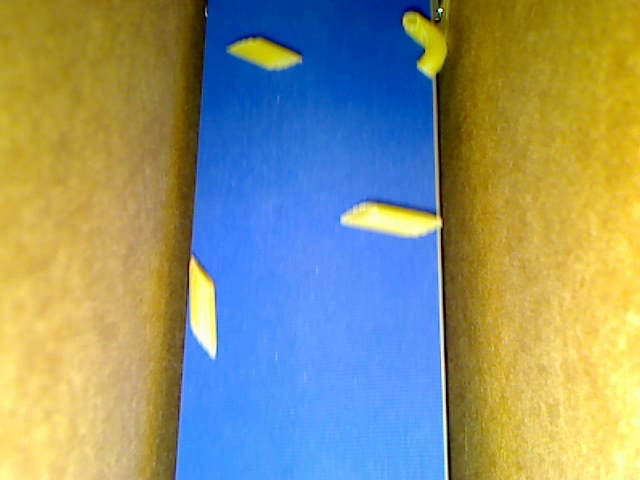elbow: (400, 15, 444, 83)
penne: (335, 195, 444, 241), (182, 255, 219, 360), (227, 34, 301, 71)
